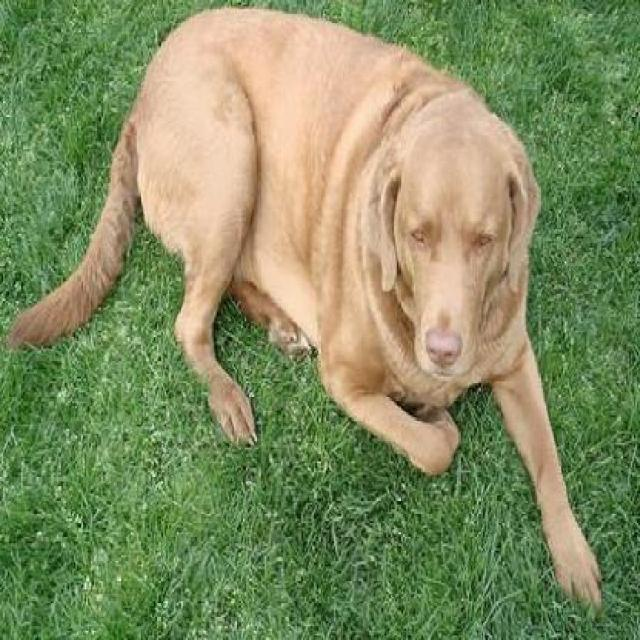Dog: (1, 0, 607, 638)
